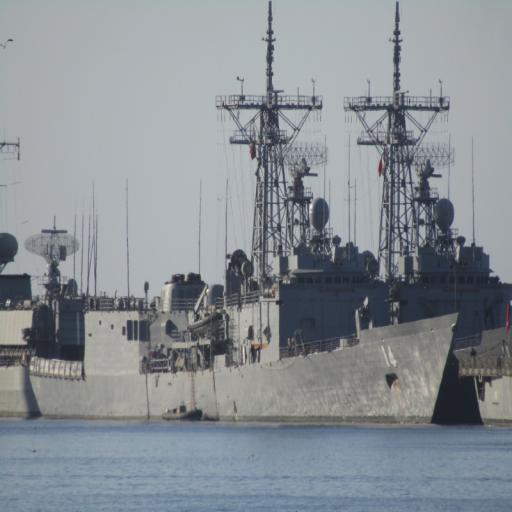Fragata: (24, 2, 482, 434)
